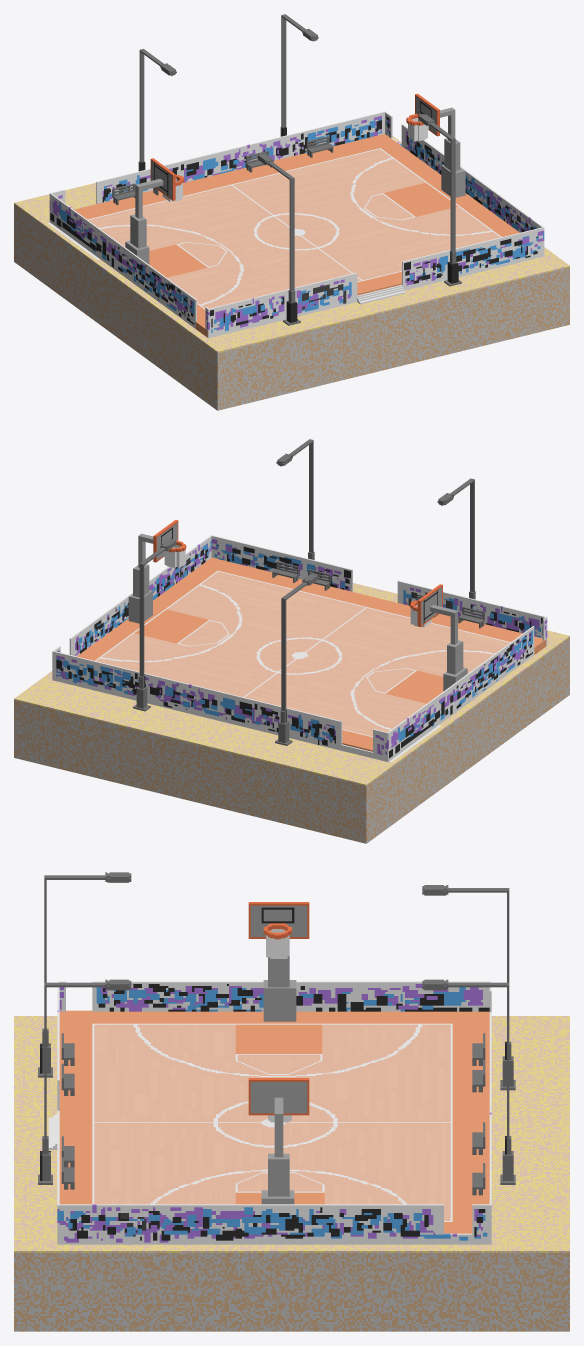
Rendered from voxel-court.glb.
3 views of the same model, one above another, from view 1: azimuth 30°, elevation 25°; view 2: azimuth 150°, elevation 25°; view 3: azimuth 270°, elevation 25° (orthographic). The views are drawn at different scales.
Parts seen in each view (by area): view 1: Object_2, Object_3; view 2: Object_2, Object_3; view 3: Object_2, Object_3.
Part boxes in pixels (left/top/right/bottom): Object_2: left=14, top=14, right=569, bottom=351; Object_3: left=14, top=15, right=569, bottom=410; Object_2: left=14, top=439, right=569, bottom=843; Object_3: left=14, top=440, right=569, bottom=843; Object_2: left=14, top=872, right=569, bottom=1250; Object_3: left=14, top=876, right=569, bottom=1331.
Size of the model in its own units: 7.35 by 4.08 by 7.35.
Materials: 1 (1 with a texture image).
